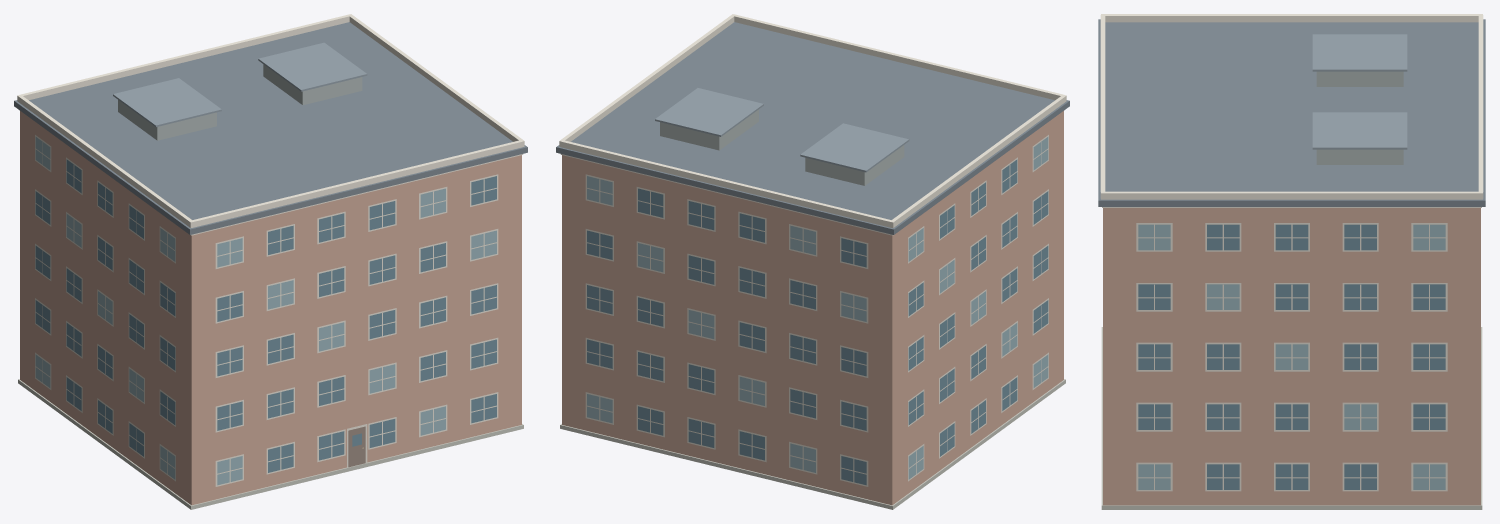
Rendered from office-midrise.glb.
The picture shows the model from 3 angles, left to right: view 1: azimuth 30°, elevation 25°; view 2: azimuth 150°, elevation 25°; view 3: azimuth 270°, elevation 25°; orthographic projection. The views are drawn at different scales.
Parts seen in each view (by area): view 1: office-midrise; view 2: office-midrise; view 3: office-midrise.
Boxes of the visible parts, x1,y1,x2,y2 form: office-midrise: (14, 14, 527, 509); office-midrise: (556, 14, 1069, 509); office-midrise: (1098, 14, 1485, 509).
Size of the model in its own units: 20.45 by 17.32 by 18.45.
